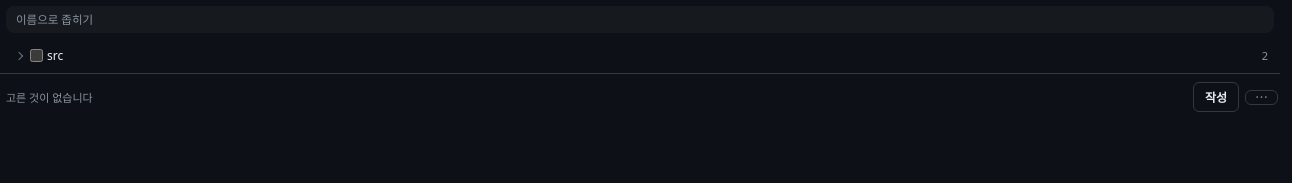
작성이 끝나면 체크가 풀린다 › 주 행동이 성공하면 전부 풀린다
Click the button named "펼치기".
click(19, 56)  # box x1=12 y1=48 x2=26 y2=62
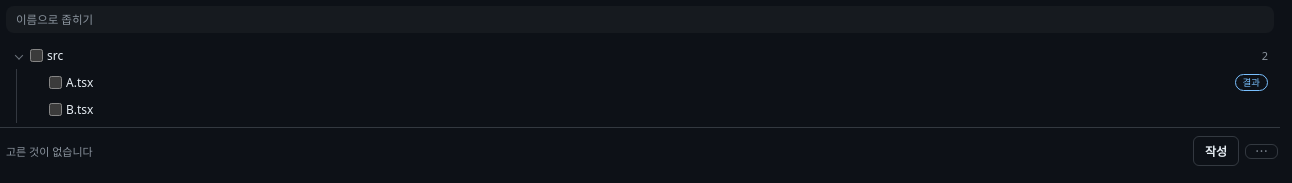
Click the checkbox named "A.tsx".
click(56, 83)  # box x1=49 y1=76 x2=62 y2=89
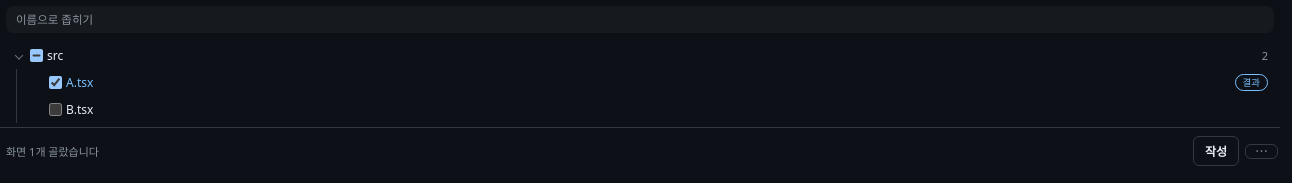
Click the checkbox named "B.tsx".
click(56, 110)  # box x1=49 y1=103 x2=62 y2=116
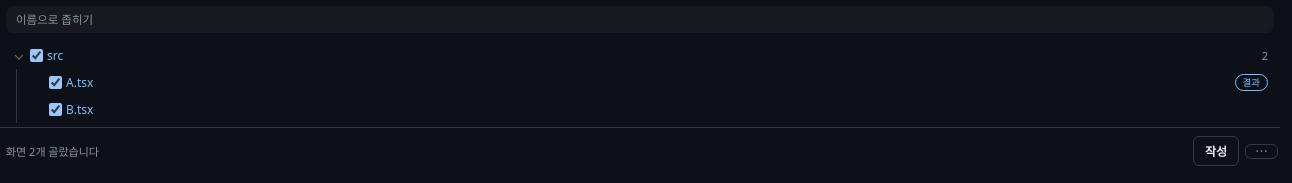
Now the checkbox named "A.tsx" is checked, box x1=49 y1=76 x2=62 y2=89
Click the button "작성".
click(1216, 151)  # box x1=1193 y1=136 x2=1239 y2=166
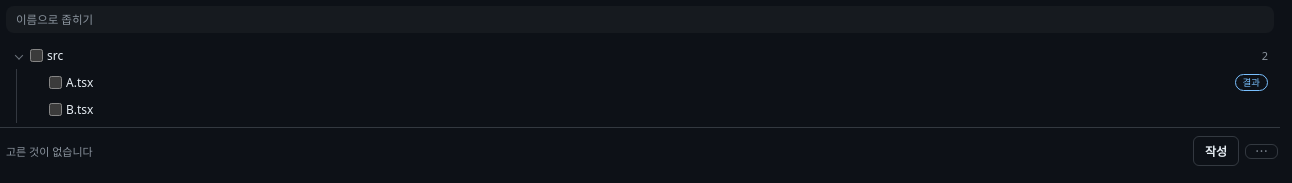
Now the checkbox named "A.tsx" is not checked, box x1=49 y1=76 x2=62 y2=89
Now the checkbox named "B.tsx" is not checked, box x1=49 y1=103 x2=62 y2=116
Now the text "고른 것이 없습니다" is shown, box x1=6 y1=144 x2=93 y2=159
